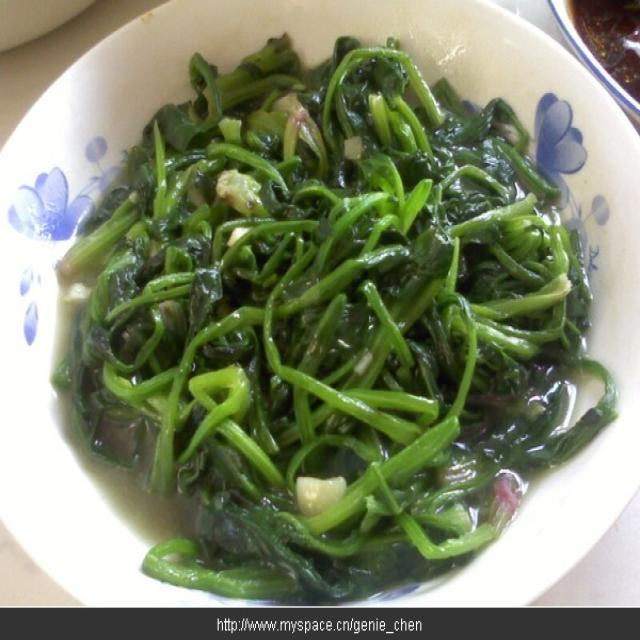蔬菜料理: (3, 0, 625, 616)
